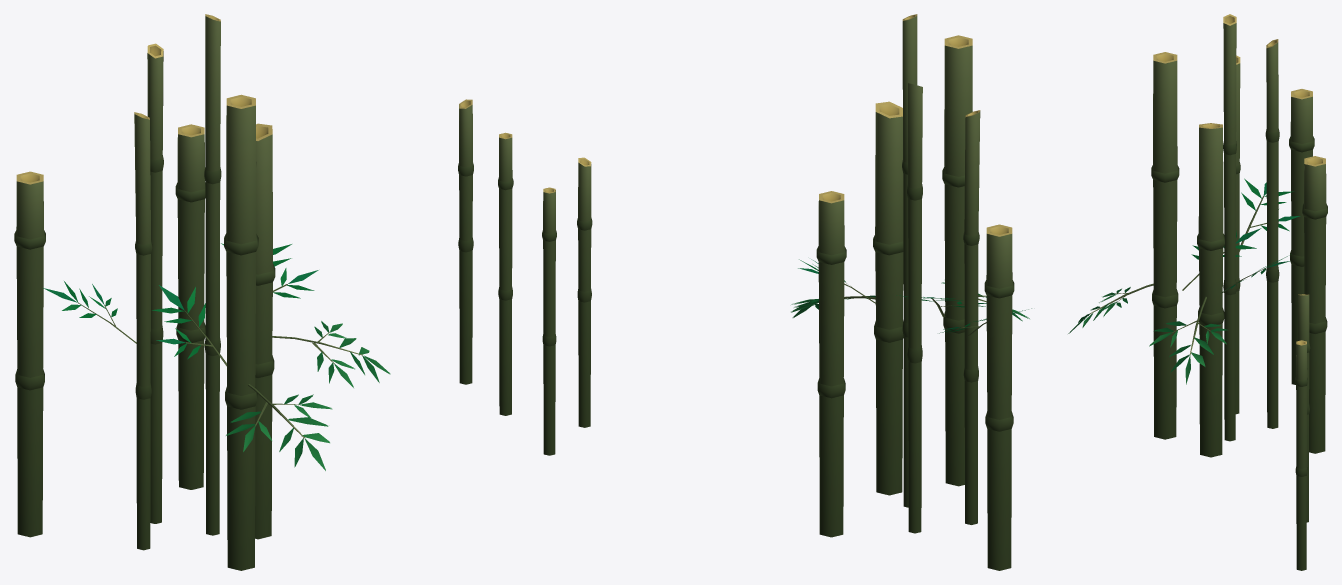
File: SK_Bamboo_001.FBX
3 views of the same model, side by side, from view 1: azimuth 30°, elevation 25°; view 2: azimuth 150°, elevation 25°; view 3: azimuth 270°, elevation 25° (orthographic). The views are drawn at different scales.
Visible parts, largest first — view 1: SK_Bamboo_001; view 2: SK_Bamboo_001; view 3: SK_Bamboo_001.
Boxes of the visible parts, box(x1,y1,x2,y2) form: SK_Bamboo_001: box(14, 14, 513, 570); SK_Bamboo_001: box(542, 14, 1031, 570); SK_Bamboo_001: box(1068, 14, 1327, 570).
Bounding box in the file's own units: 168 × 166 × 93.66.
Materials: 1 (1 with a texture image).
